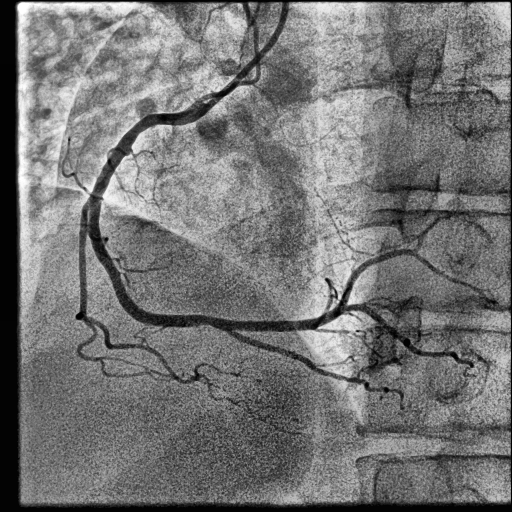pborca: (233, 249, 417, 332)
pda: (226, 329, 362, 384)
rca: (89, 98, 232, 331)
